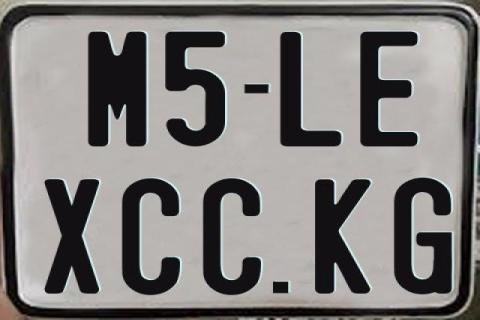0: (163, 29, 230, 147)
C: (203, 177, 267, 297), (122, 177, 183, 296)
E: (360, 29, 419, 147)
G: (394, 176, 453, 298)
K: (312, 179, 369, 296)
L: (278, 30, 342, 146)
M: (86, 30, 147, 146)
X: (44, 177, 100, 296)
